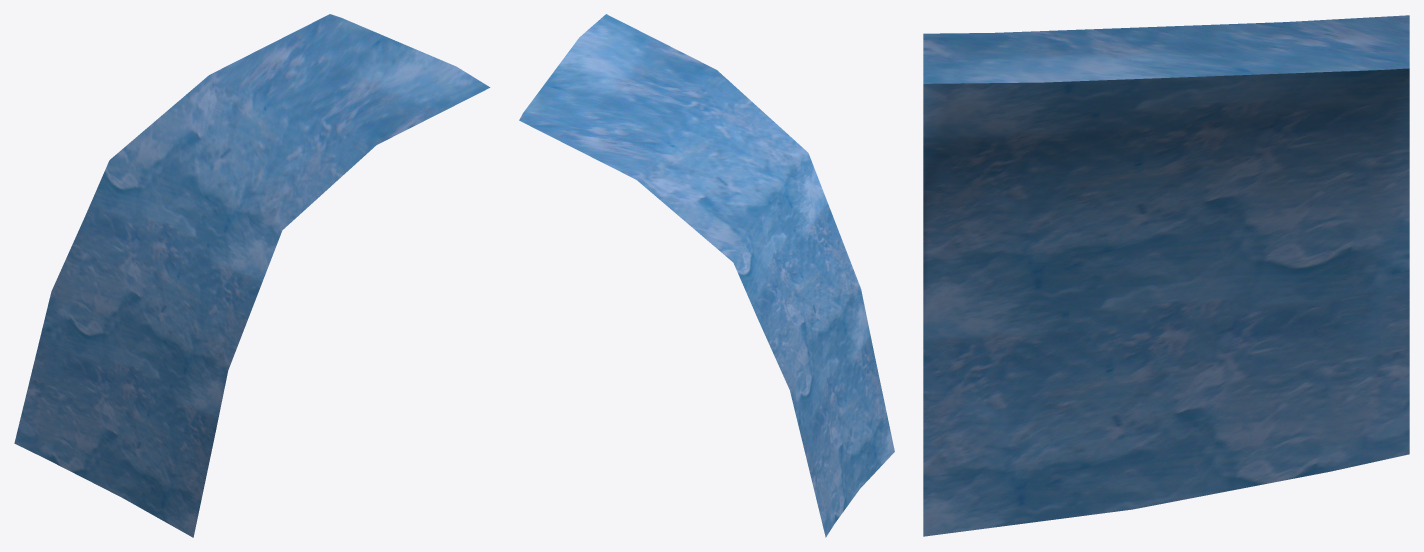
File: IceB5.fbx
3 renders of one model, left to right at view 1: azimuth 30°, elevation 25°; view 2: azimuth 150°, elevation 25°; view 3: azimuth 270°, elevation 25°, orthographic. The views are drawn at different scales.
Visible parts, largest first — view 1: IceB5; view 2: IceB5; view 3: IceB5.
Boxes of the visible parts, x1,y1,x2,y2 form: IceB5: (14,14,490,537); IceB5: (519,14,894,537); IceB5: (923,15,1409,536).
Bounding box in the file's own units: 1438 × 1479 × 888.
